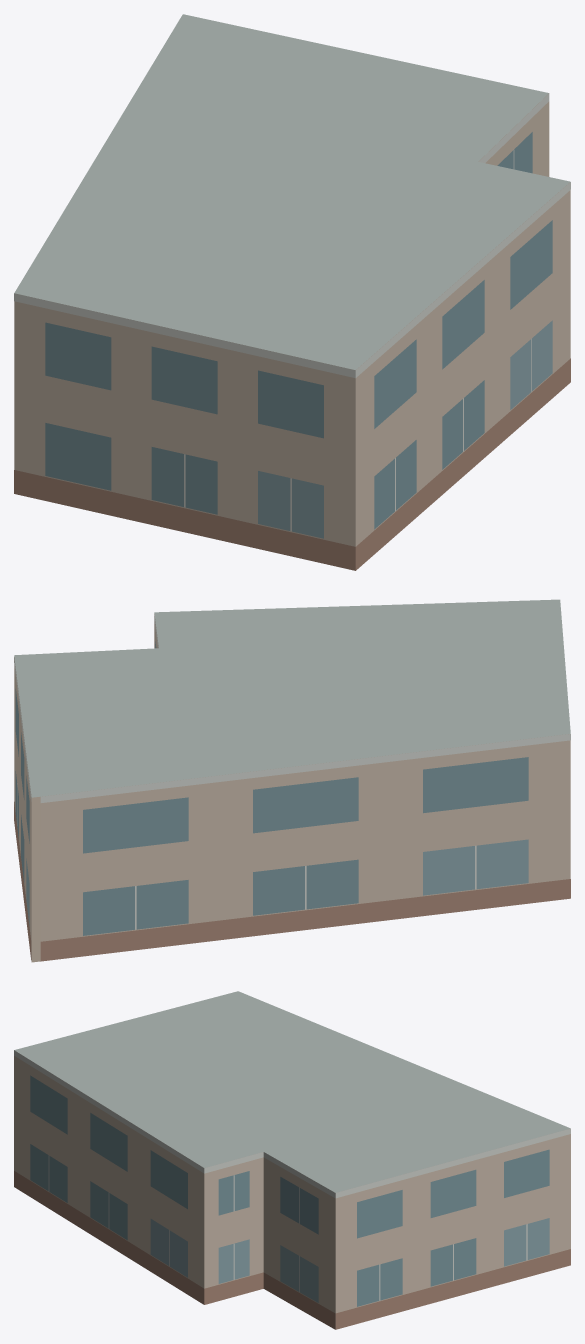
The model's file is survey-upis-32767142.glb.
The picture shows the model from 3 angles, top to bottom: view 1: azimuth 30°, elevation 25°; view 2: azimuth 150°, elevation 25°; view 3: azimuth 270°, elevation 25°; orthographic projection. The views are drawn at different scales.
Visible parts, largest first — view 1: survey-upis-32767142.tmp; view 2: survey-upis-32767142.tmp; view 3: survey-upis-32767142.tmp.
Boxes of the visible parts, x1,y1,x2,y2 form: survey-upis-32767142.tmp: (14, 14, 570, 570); survey-upis-32767142.tmp: (14, 599, 570, 962); survey-upis-32767142.tmp: (14, 991, 570, 1329).
Bounding box in the file's own units: 19.3 × 6.1 × 22.5.
